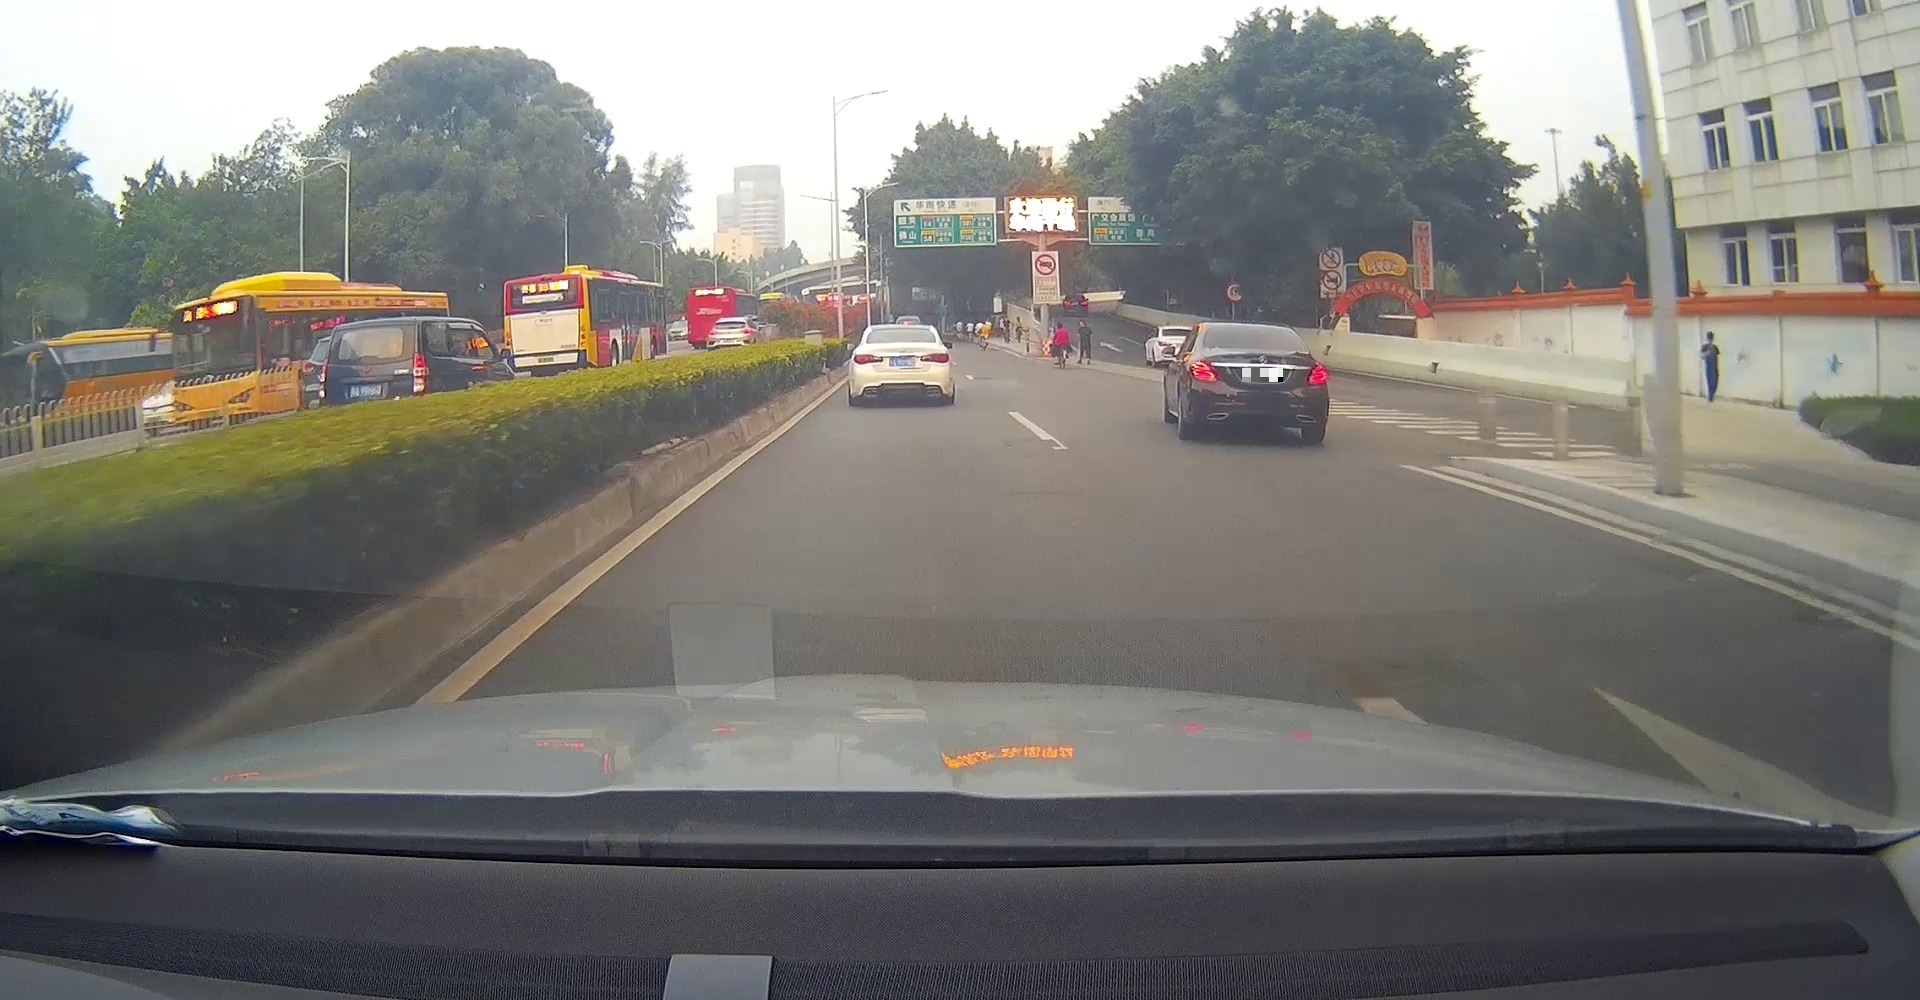L_light: (1189, 360, 1219, 382), (853, 354, 884, 365), (317, 364, 326, 398), (504, 330, 512, 352), (709, 329, 717, 335)
R_light: (413, 353, 425, 391), (1307, 363, 1328, 385), (919, 353, 949, 363), (579, 324, 585, 346), (742, 327, 752, 334)
T_light: (1244, 326, 1263, 332), (364, 325, 383, 331), (894, 327, 909, 332), (537, 279, 550, 283), (728, 321, 734, 324)
day-no: (1187, 324, 1330, 443), (317, 316, 427, 409), (504, 272, 587, 373), (850, 324, 954, 404), (706, 317, 753, 352)
plate_1: (1242, 368, 1283, 382)
